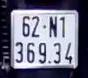1: (60, 14, 67, 39)
2: (31, 14, 41, 37)
3: (52, 41, 62, 65), (14, 41, 24, 64)
4: (64, 41, 74, 64)
6: (26, 41, 36, 64), (21, 14, 31, 37)
9: (37, 41, 49, 64)
N: (47, 13, 58, 39)
